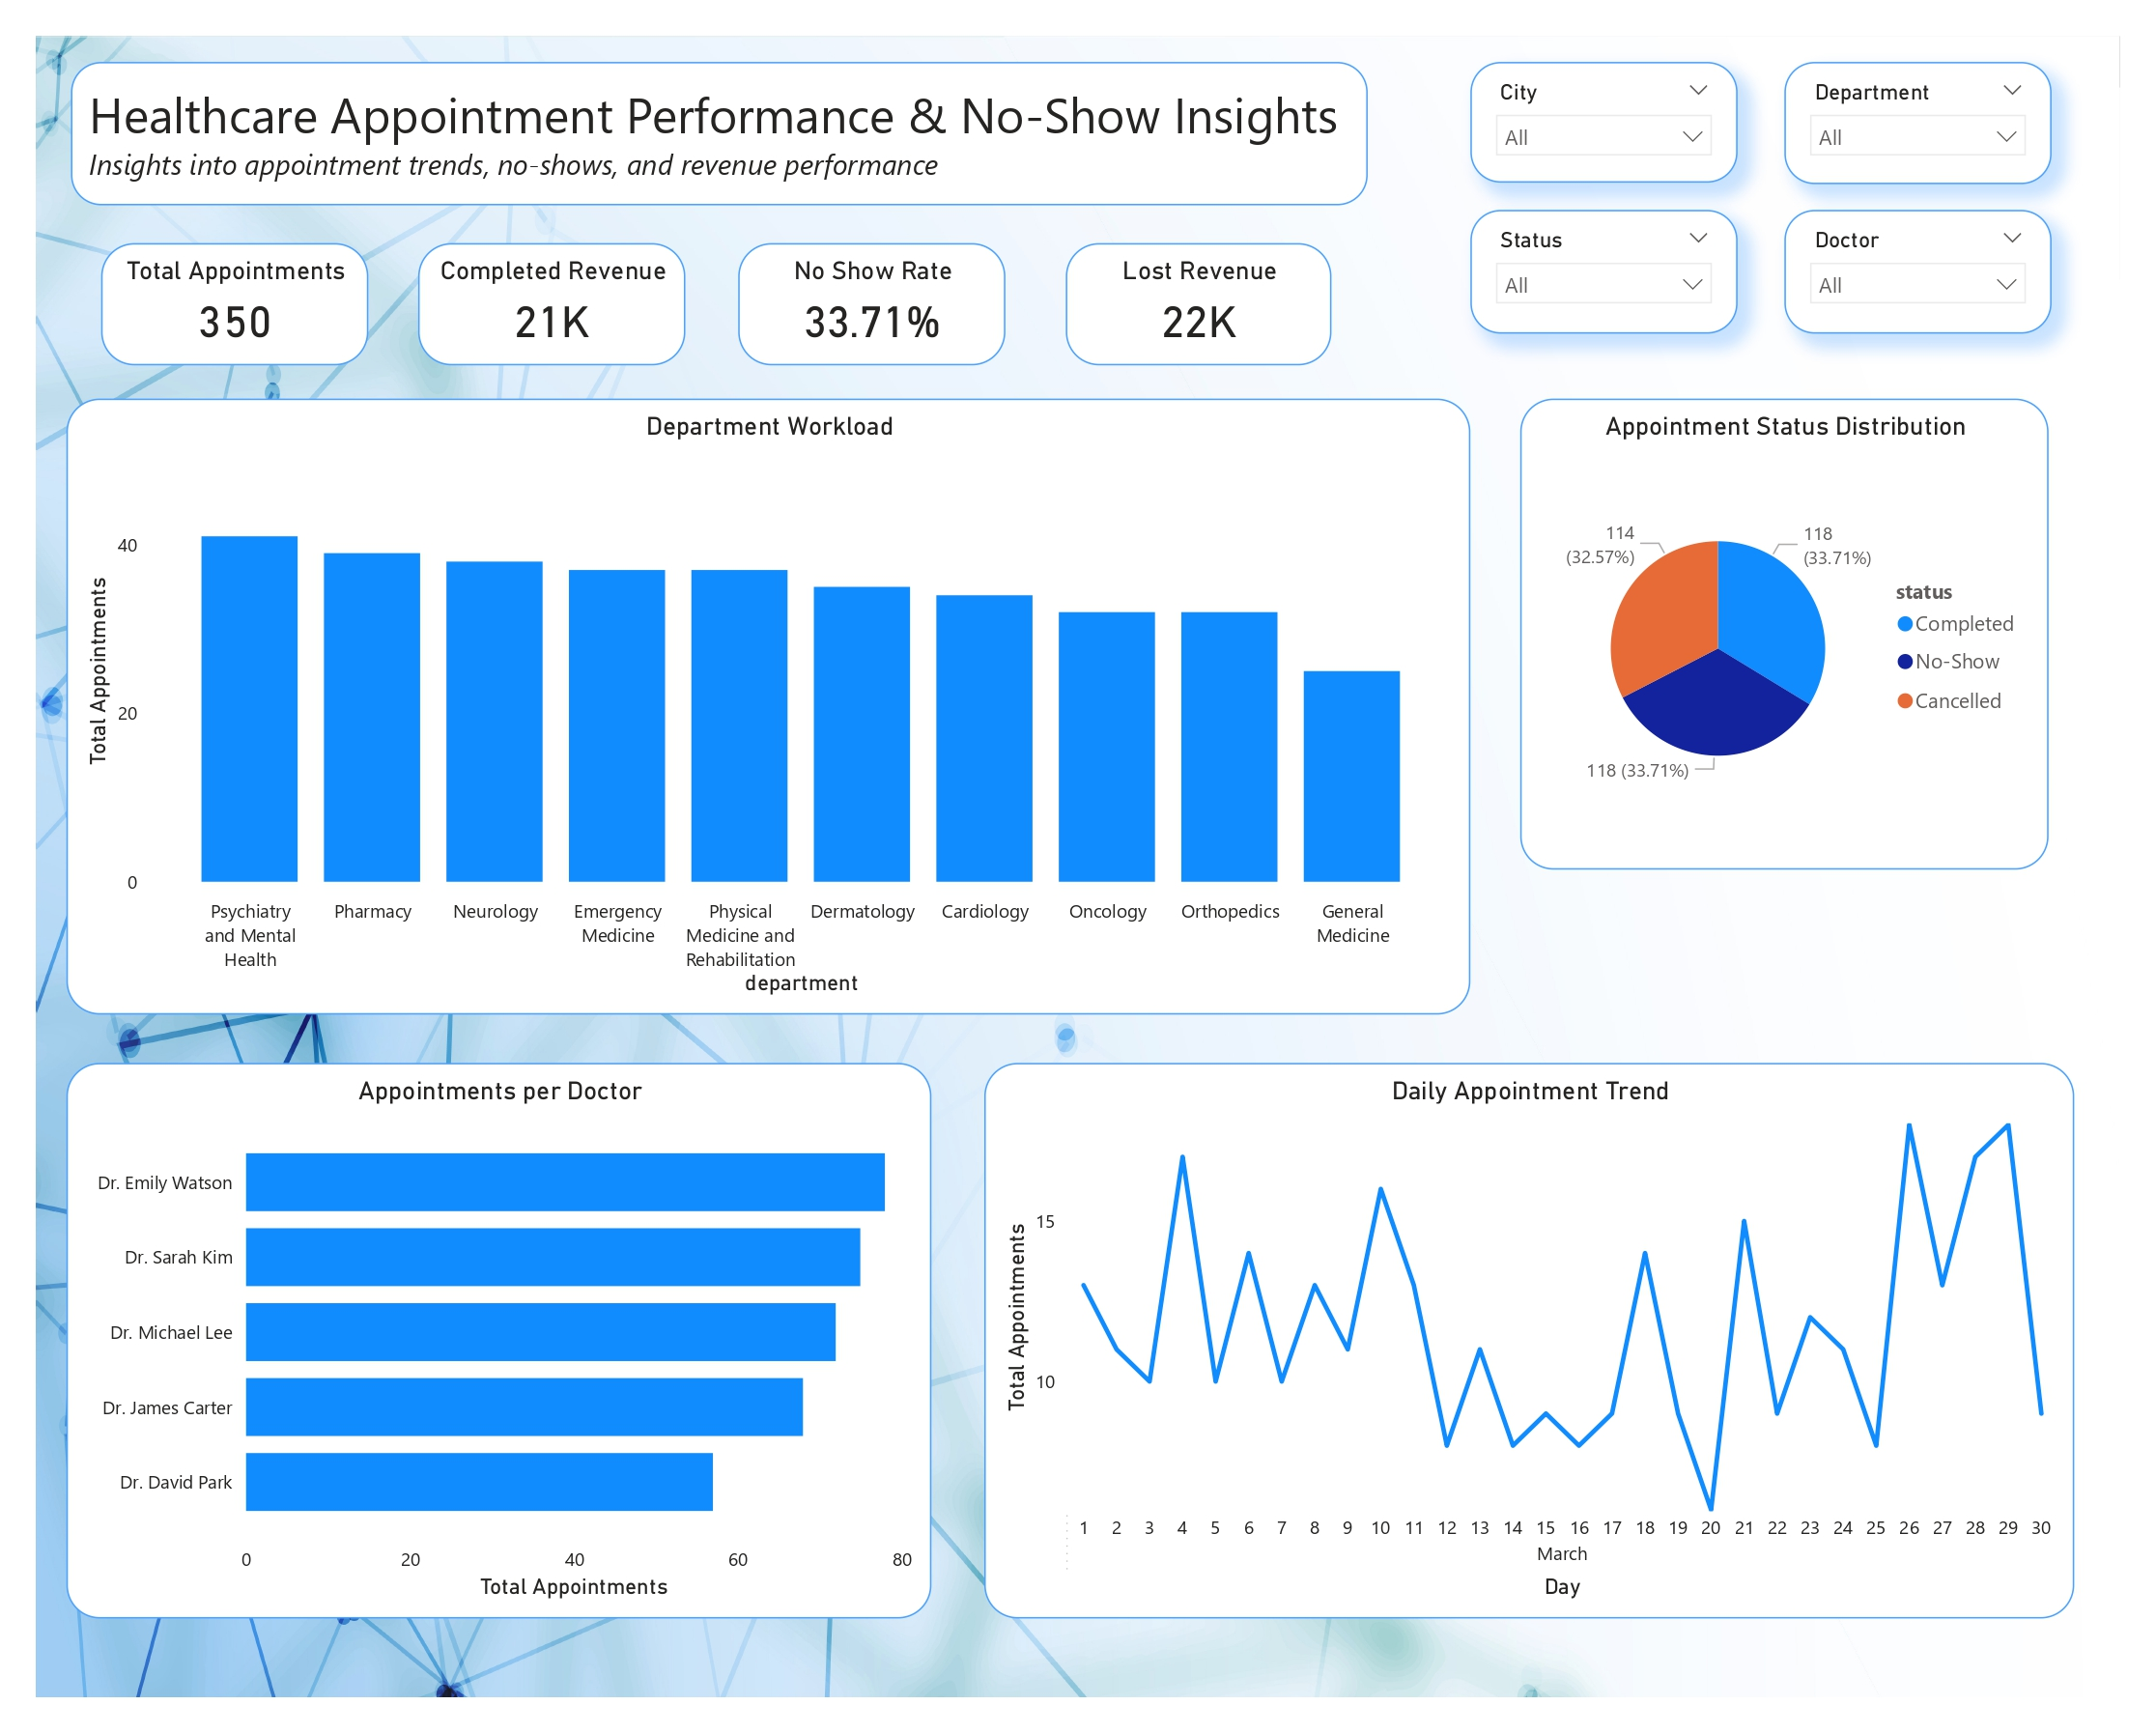

The dashboard page shown, as its layout file describes it:
{"tool":"powerbi","page":{"name":"Page 1","canvas":[1380,1100],"ordinal":0},"visuals":[{"type":"card","title":"Total Appointments","fields":{"Values":["appointment_data csv.Total Appointments"]},"box":[43.3,136.7,176.7,81.7],"z":0},{"type":"card","title":"No Show Rate","fields":{"Values":["appointment_data csv.No SHow Rate"]},"box":[465,136.7,176.7,81.7],"z":1000},{"type":"card","title":"Lost Revenue","fields":{"Values":["appointment_data csv.Lost Revenue"]},"box":[681.7,136.7,176.7,81.7],"z":2000},{"type":"card","title":"Completed Revenue","fields":{"Values":["appointment_data csv.Completed Revenue"]},"box":[253.3,136.7,176.7,81.7],"z":3000},{"type":"textbox","box":[23.3,16.7,858.3,95],"z":4000},{"type":"clusteredBarChart","title":"Appointments per Doctor","fields":{"Category":["appointment_data csv.doctor"],"Y":["appointment_data csv.Total Appointments"]},"box":[20,680,573.3,368.3],"z":5000},{"type":"pieChart","title":"Appointment Status Distribution","fields":{"Category":["appointment_data csv.status"],"Y":["CountNonNull(appointment_data csv.appointment_id)"]},"box":[983.3,240,350,311.7],"z":6000},{"type":"lineChart","title":"Daily Appointment Trend","fields":{"Category":["appointment_data csv.appointment_date.Variation.Date Hierarchy.Month","appointment_data csv.appointment_date.Variation.Date Hierarchy.Day"],"Y":["appointment_data csv.Total Appointments"]},"box":[628.3,680,721.7,368.3],"z":7000},{"type":"clusteredColumnChart","title":"Department Workload","fields":{"Y":["appointment_data csv.Total Appointments"],"Category":["appointment_data csv.department"]},"box":[20,240,930,408.3],"z":8000},{"type":"slicer","fields":{"Values":["patient_data csv.city"]},"box":[950,16.7,176.7,80],"z":9000},{"type":"slicer","fields":{"Values":["appointment_data csv.doctor"]},"box":[1158.3,115,176.7,81.7],"z":10000},{"type":"slicer","fields":{"Values":["appointment_data csv.department"]},"box":[1158.3,16.7,176.7,81.7],"z":11000},{"type":"slicer","fields":{"Values":["appointment_data csv.status"]},"box":[950,115,176.7,81.7],"z":12000}]}

Visuals, with their boxes on the page's 1380x1100 design canvas (x1, y1, x2, y2). These are canvas units, not pixel positions in the 2156x1733 screenshot, which may show the page scaled, cropped or inside an application window:
"Total Appointments" card: bbox=(43, 137, 220, 218)
"No Show Rate" card: bbox=(465, 137, 642, 218)
"Lost Revenue" card: bbox=(682, 137, 858, 218)
"Completed Revenue" card: bbox=(253, 137, 430, 218)
textbox: bbox=(23, 17, 882, 112)
"Appointments per Doctor" clusteredBarChart: bbox=(20, 680, 593, 1048)
"Appointment Status Distribution" pieChart: bbox=(983, 240, 1333, 552)
"Daily Appointment Trend" lineChart: bbox=(628, 680, 1350, 1048)
"Department Workload" clusteredColumnChart: bbox=(20, 240, 950, 648)
slicer - patient_data csv.city: bbox=(950, 17, 1127, 97)
slicer - appointment_data csv.doctor: bbox=(1158, 115, 1335, 197)
slicer - appointment_data csv.department: bbox=(1158, 17, 1335, 98)
slicer - appointment_data csv.status: bbox=(950, 115, 1127, 197)
